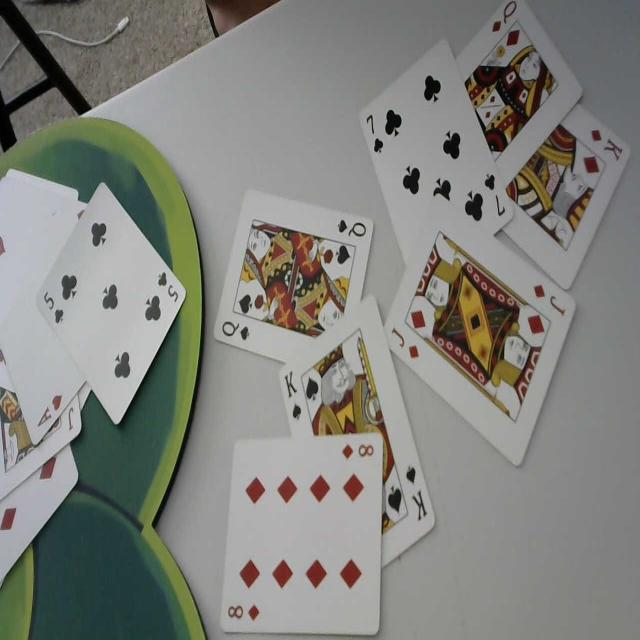5C: (155, 268, 185, 314), (41, 282, 65, 326)
7C: (481, 168, 508, 221), (364, 108, 388, 158)
8D: (226, 600, 262, 623), (342, 439, 376, 462)
AH: (34, 386, 64, 432)
JD: (530, 274, 572, 320), (390, 322, 422, 366)
KD: (589, 120, 624, 164)
KS: (404, 462, 430, 526), (282, 365, 303, 423)
QD: (490, 0, 518, 39)
QS: (334, 212, 368, 244), (221, 317, 251, 344)
